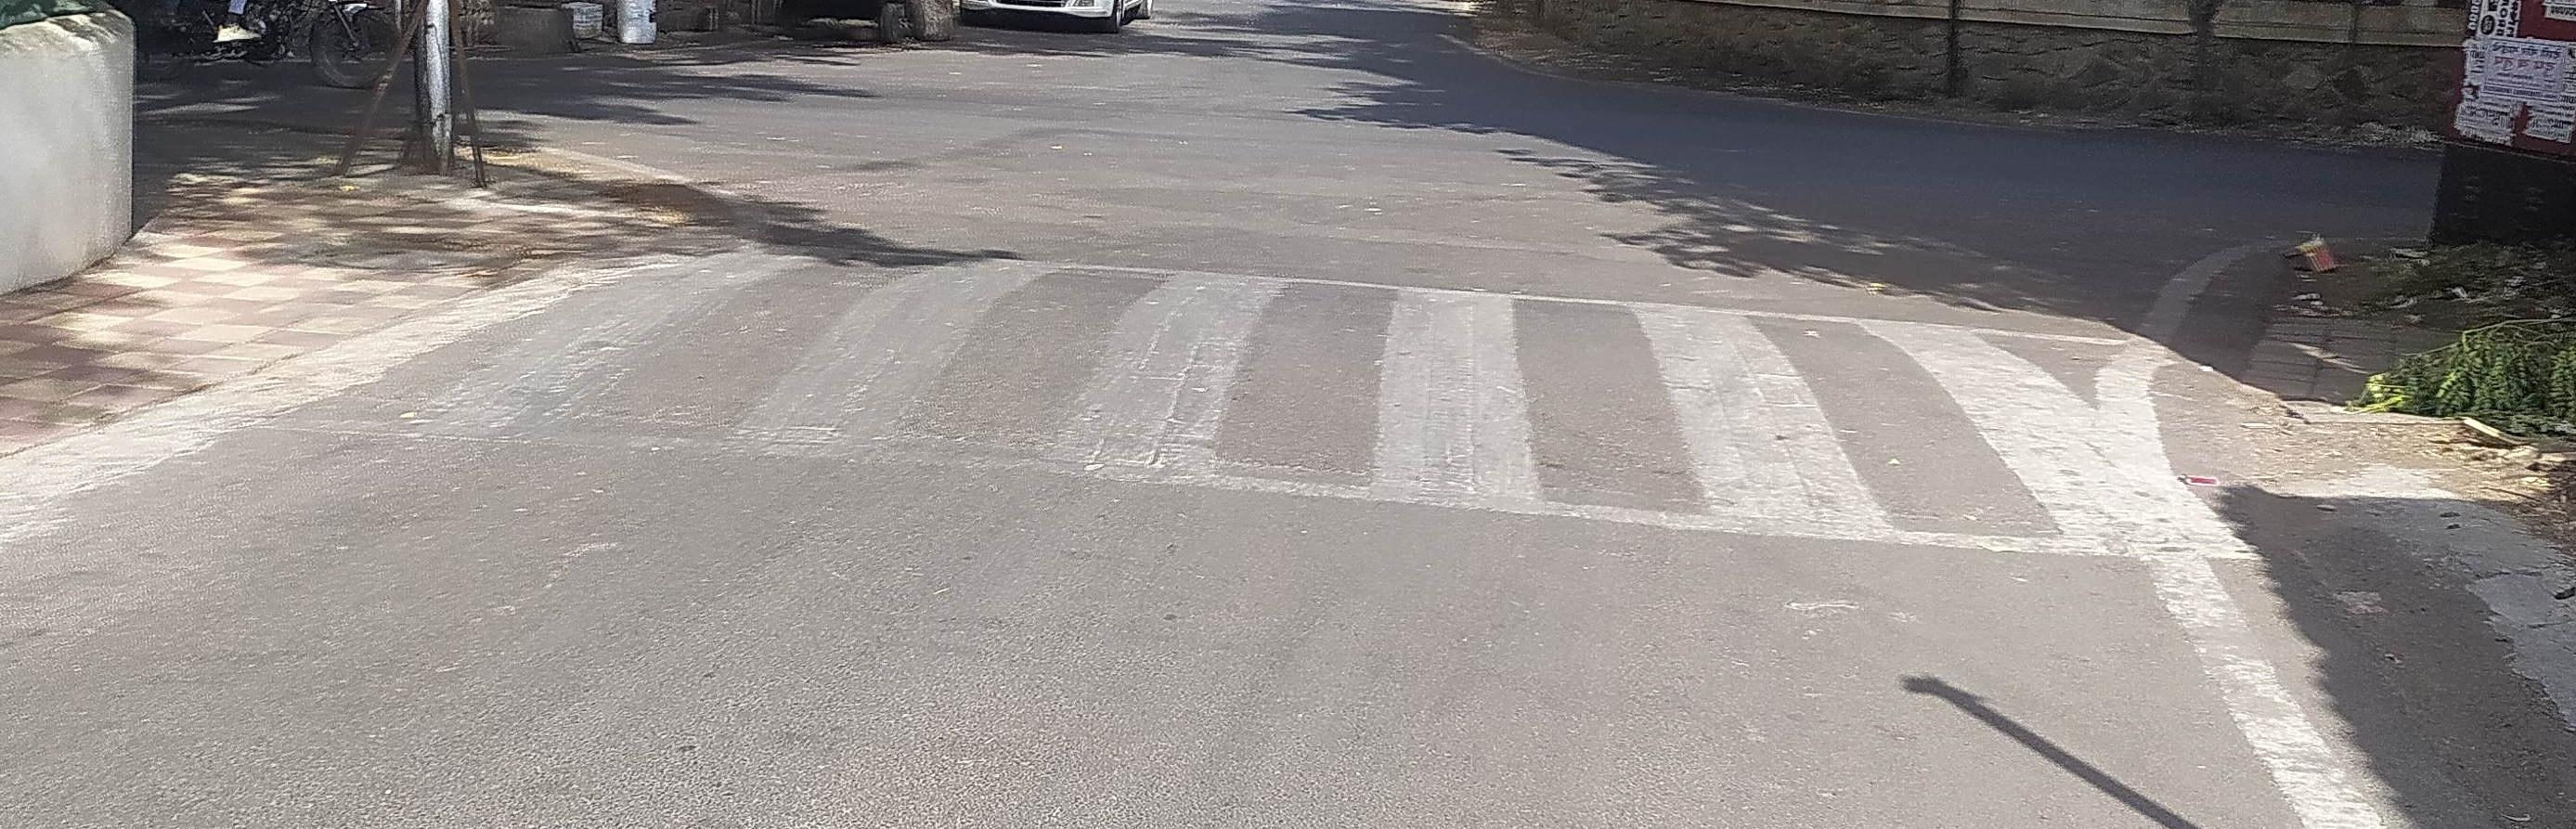speed-bump: (332, 248, 2235, 563)
